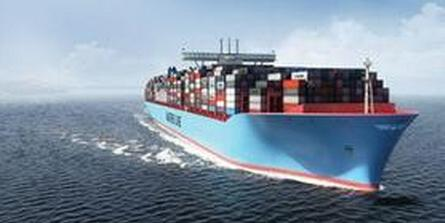Cargoship: (139, 33, 422, 201)
